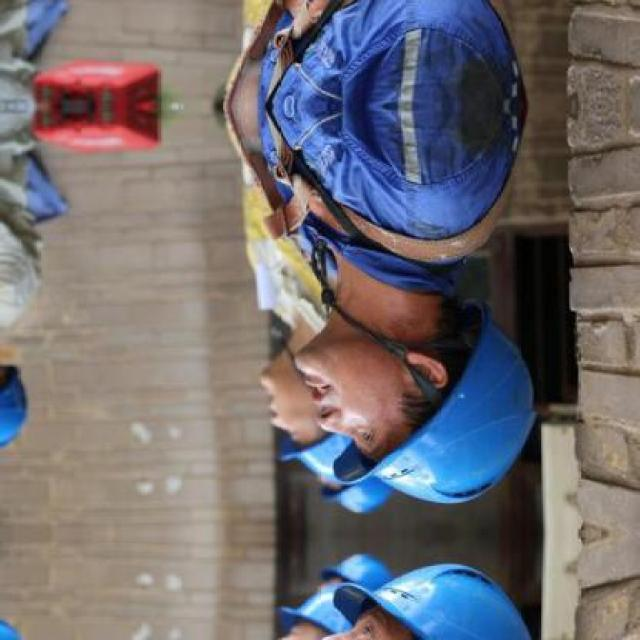safetyhelmet: (336, 303, 535, 501), (334, 564, 530, 639), (279, 584, 352, 632), (279, 433, 349, 480), (322, 553, 393, 588), (322, 478, 393, 512), (0, 367, 27, 446), (0, 619, 21, 639)
